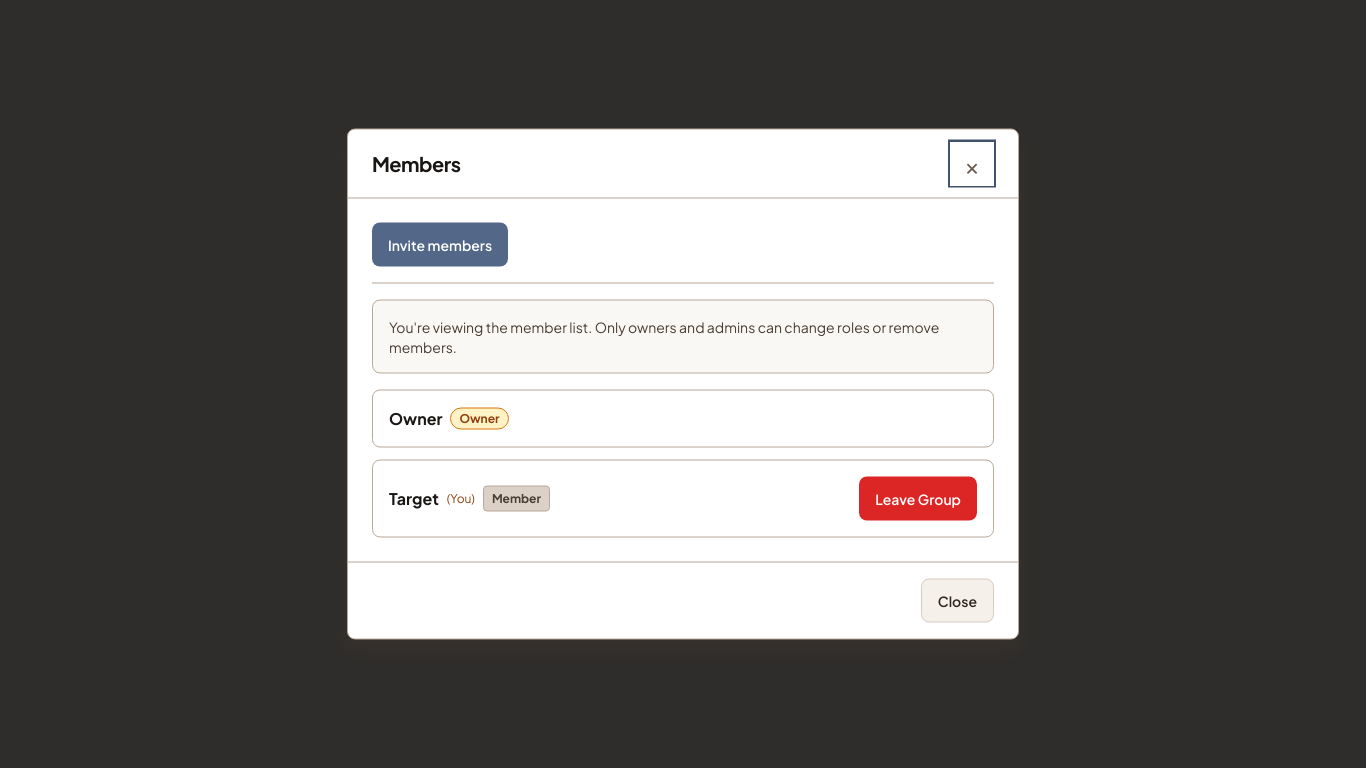
Test: ManageMembers — Req 9 modal migration proof (leave-group confirm) › closes on Escape
Expected: the dialog "Members" is shown, x1=347 y1=128 x2=1019 y2=640
Click the button "Leave Group" at (918, 498), box x1=859 y1=476 x2=977 y2=520
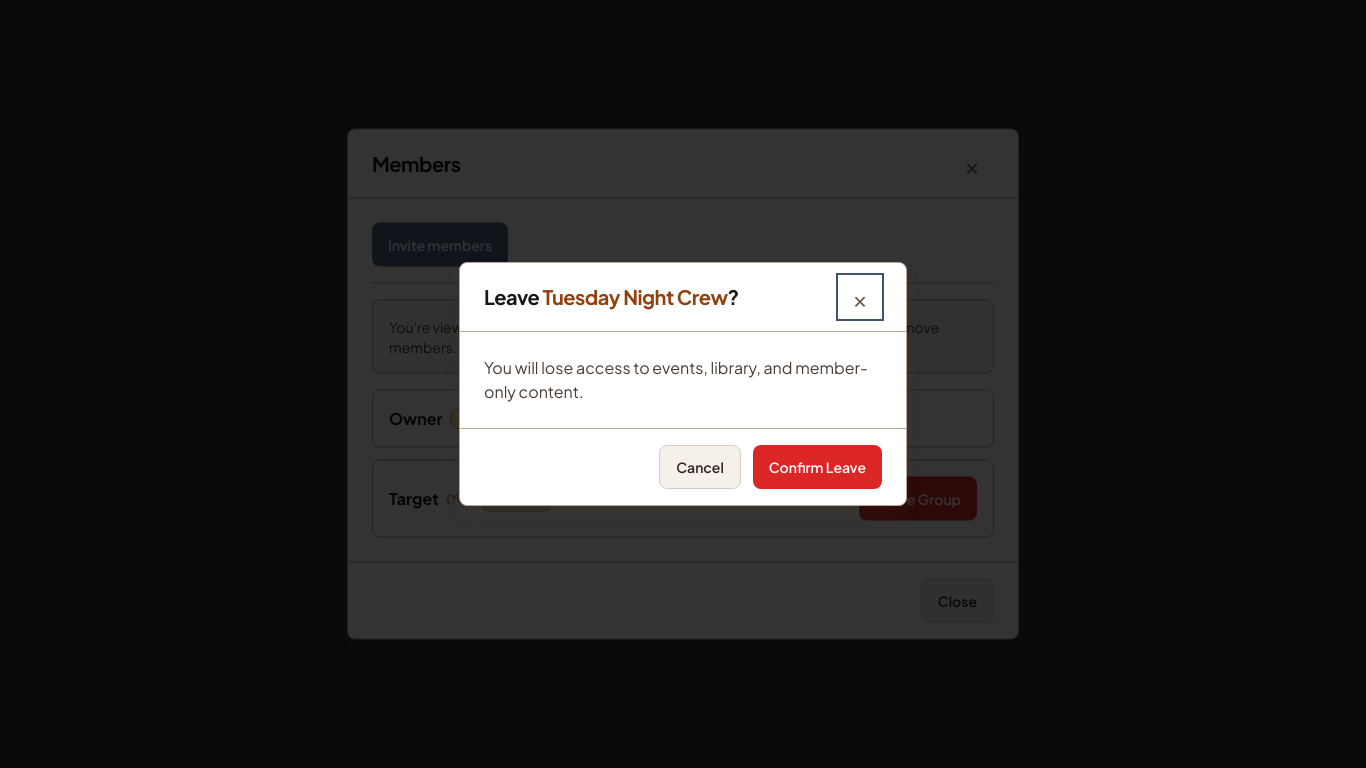
Expected: the dialog "Leave Tuesday Night Crew?" is shown, x1=459 y1=262 x2=907 y2=506
Press Escape
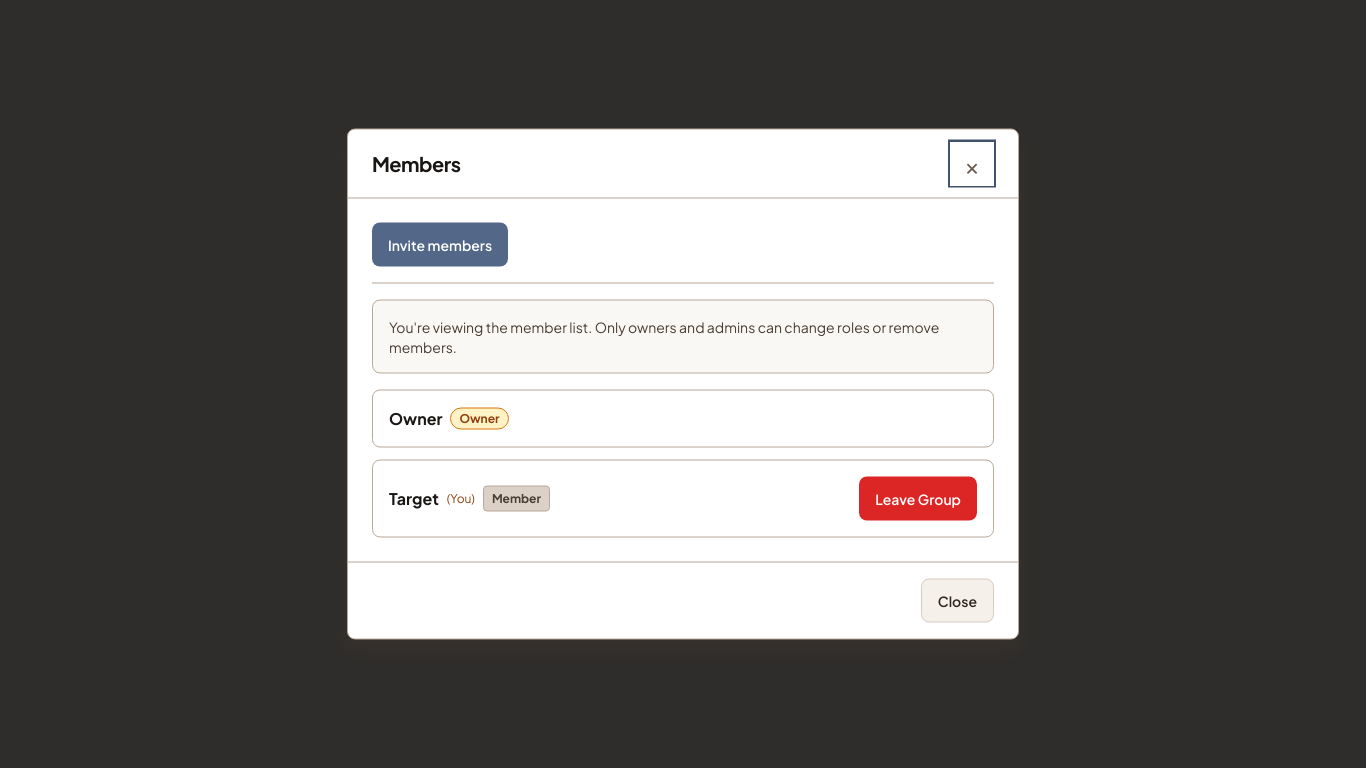
Expected: the heading "Leave Tuesday Night Crew?" is gone
